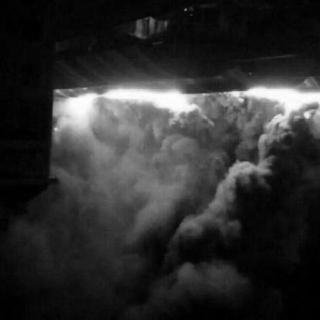Fire: (65, 84, 319, 120)
Smoke: (57, 121, 310, 312)
